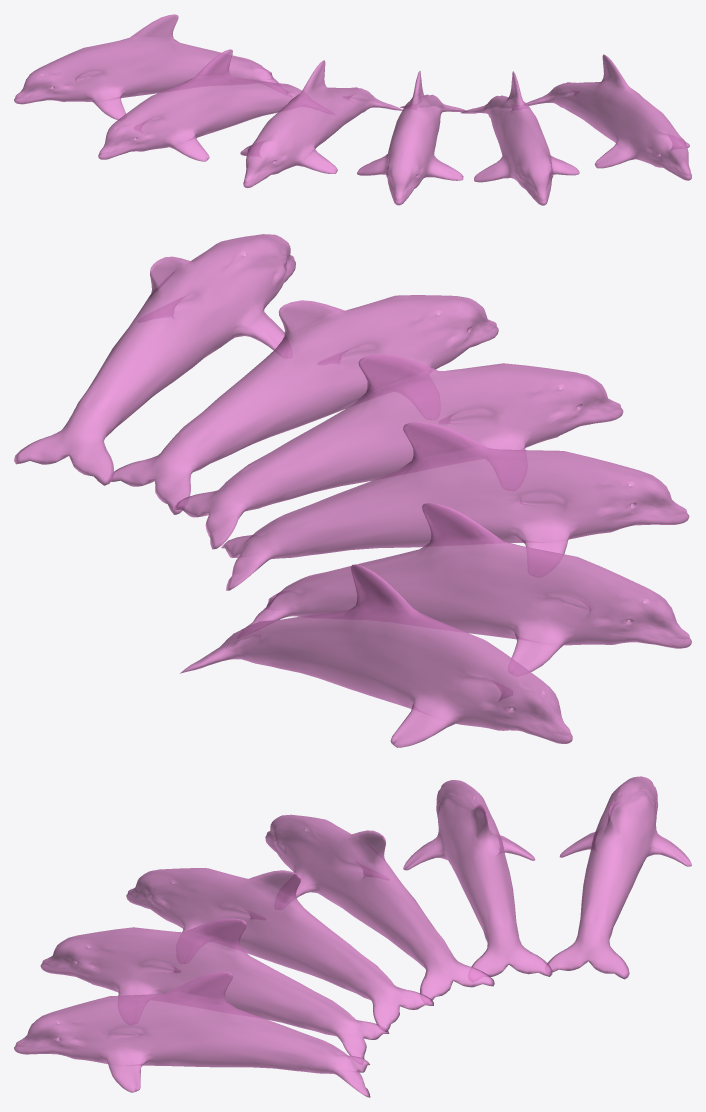
File: delphin.dae
3 renders of one model, top to bottom at view 1: azimuth 30°, elevation 25°; view 2: azimuth 150°, elevation 25°; view 3: azimuth 270°, elevation 25°, orthographic. The views are drawn at different scales.
Parts seen in each view (by area): view 1: dl_body_005, dl_body_004, dl_body, dl_body_002, dl_body_001, dl_body_003; view 2: dl_body_002, dl_body_003, dl_body_004, dl_body_005, dl_body_001, dl_body; view 3: dl_body, dl_body_001, dl_body_003, dl_body_002, dl_body_005, dl_body_004.
Part boxes in pixels (x1=…): dl_body_005: x1=14, y1=14, x2=279, y2=119; dl_body_004: x1=98, y1=49, x2=301, y2=161; dl_body: x1=526, y1=54, x2=691, y2=180; dl_body_002: x1=240, y1=60, x2=402, y2=187; dl_body_001: x1=460, y1=71, x2=579, y2=205; dl_body_003: x1=357, y1=71, x2=467, y2=205; dl_body_002: x1=221, y1=422, x2=689, y2=590; dl_body_003: x1=173, y1=354, x2=623, y2=549; dl_body_004: x1=246, y1=503, x2=691, y2=671; dl_body_005: x1=180, y1=564, x2=572, y2=747; dl_body_001: x1=111, y1=295, x2=498, y2=514; dl_body: x1=14, y1=234, x2=295, y2=485; dl_body: x1=14, y1=971, x2=370, y2=1097; dl_body_001: x1=40, y1=918, x2=389, y2=1058; dl_body_003: x1=126, y1=868, x2=433, y2=1032; dl_body_002: x1=265, y1=814, x2=494, y2=1000; dl_body_005: x1=547, y1=776, x2=691, y2=979; dl_body_004: x1=403, y1=780, x2=552, y2=976.
Bounding box in the file's own units: 4.32 × 4.32 × 0.8231.
